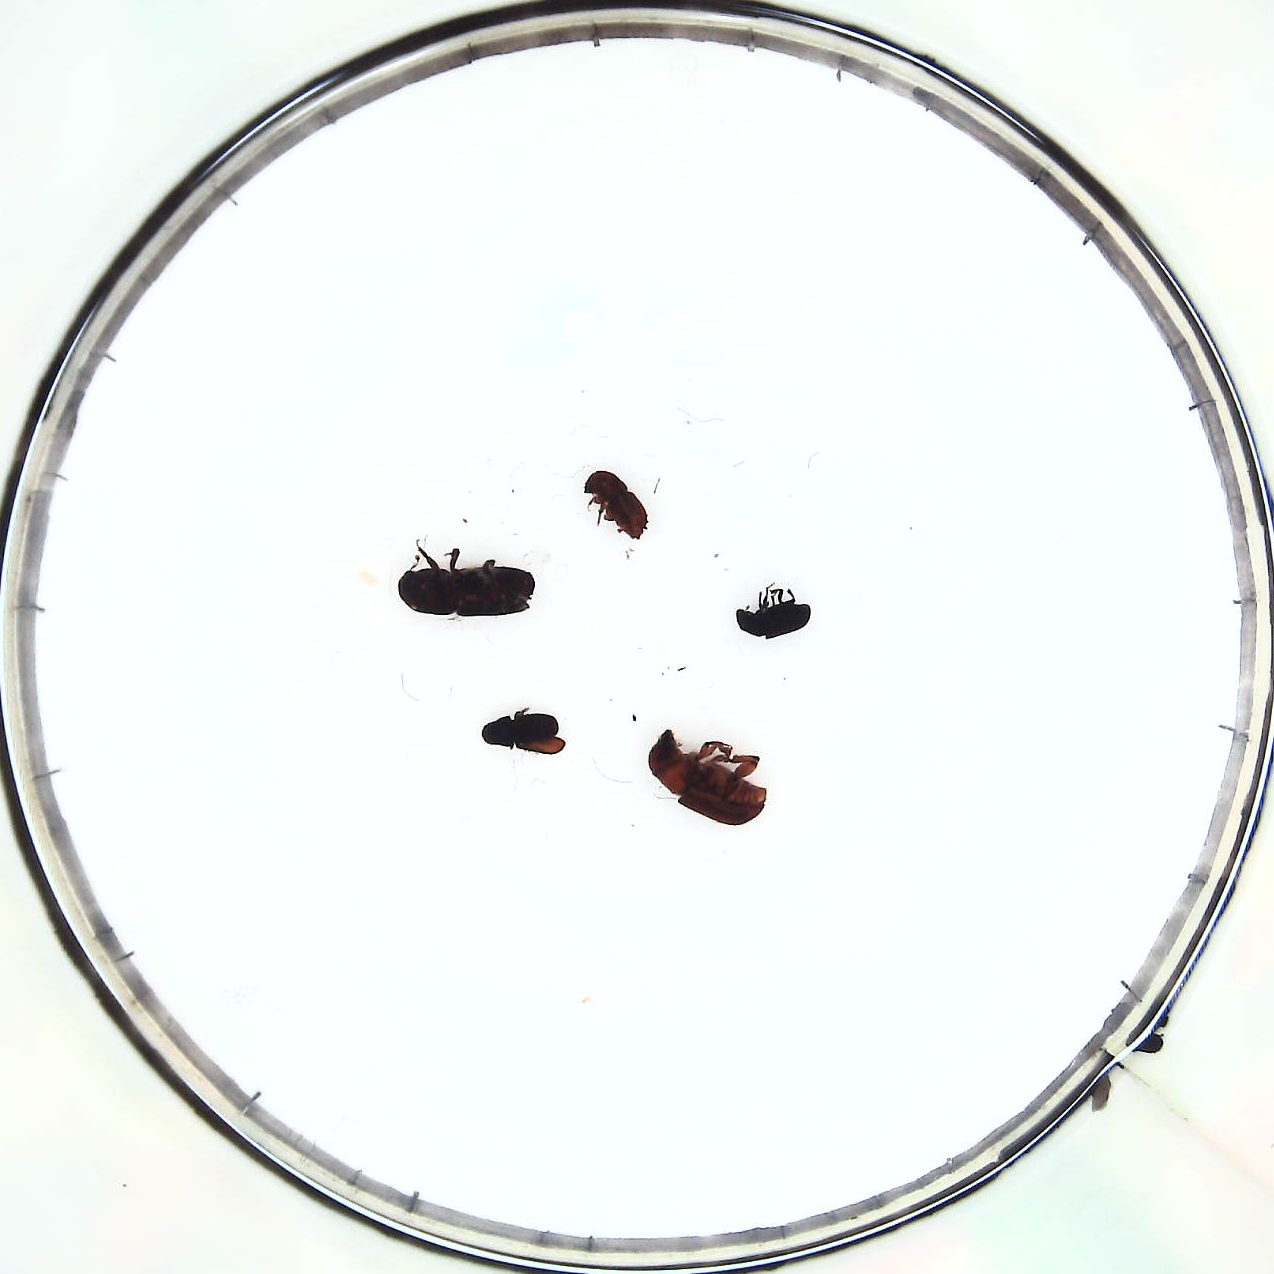Boerner: (395, 552, 537, 622)
Leconte: (649, 728, 770, 831)
Linnaeus: (582, 467, 653, 546)
armandi: (480, 710, 565, 756)
coleoptera: (728, 594, 815, 638)
